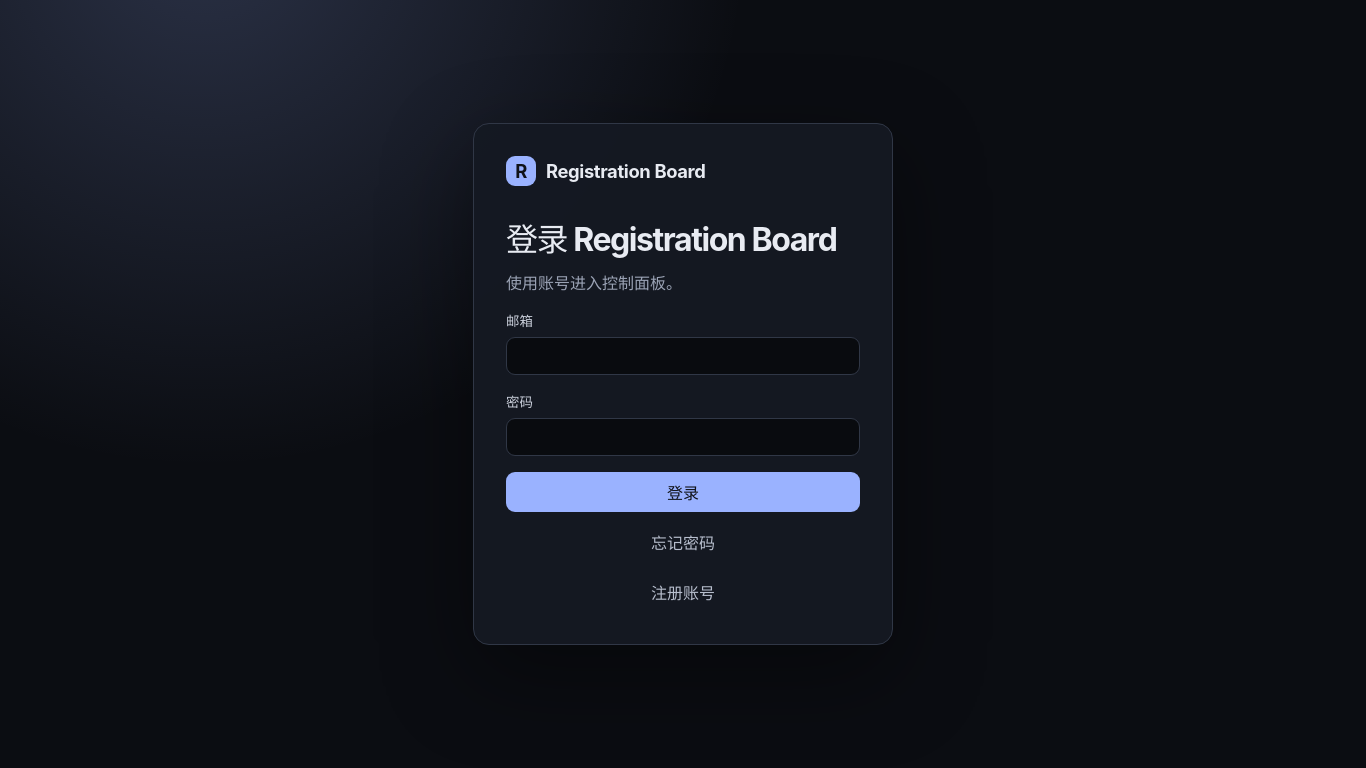
Test: App public identity bootstrap › registers with the legacy basic fields and enters the user portal
Click the button "注册账号" at (683, 592), box [506,572,860,612]
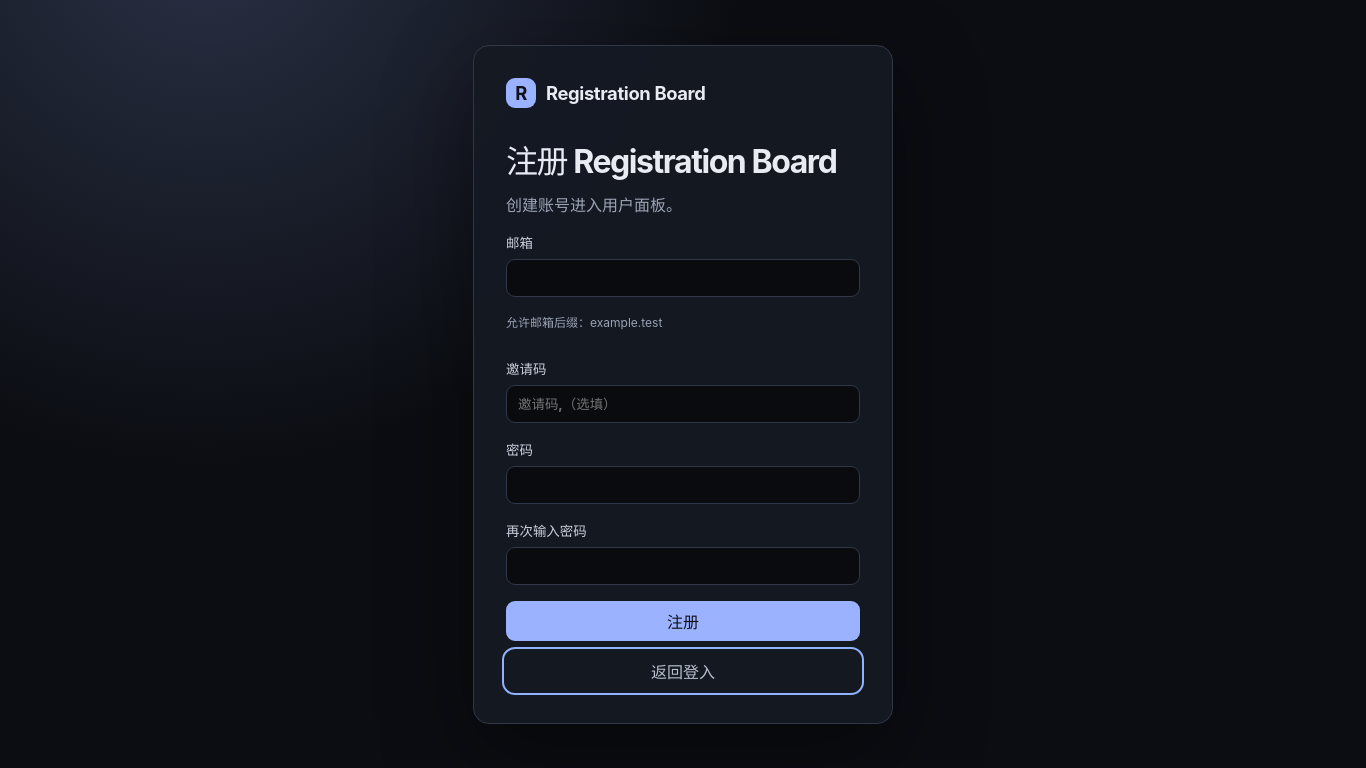
Result: the heading "注册 Registration Board" is shown at [506,136,860,182]
Result: the text "允许邮箱后缀：example.test" is shown at [506,314,662,330]
Type "NEW@EXAMPLE.TEST" into the field labelled "邮箱" at (683, 278), box [506,258,860,296]
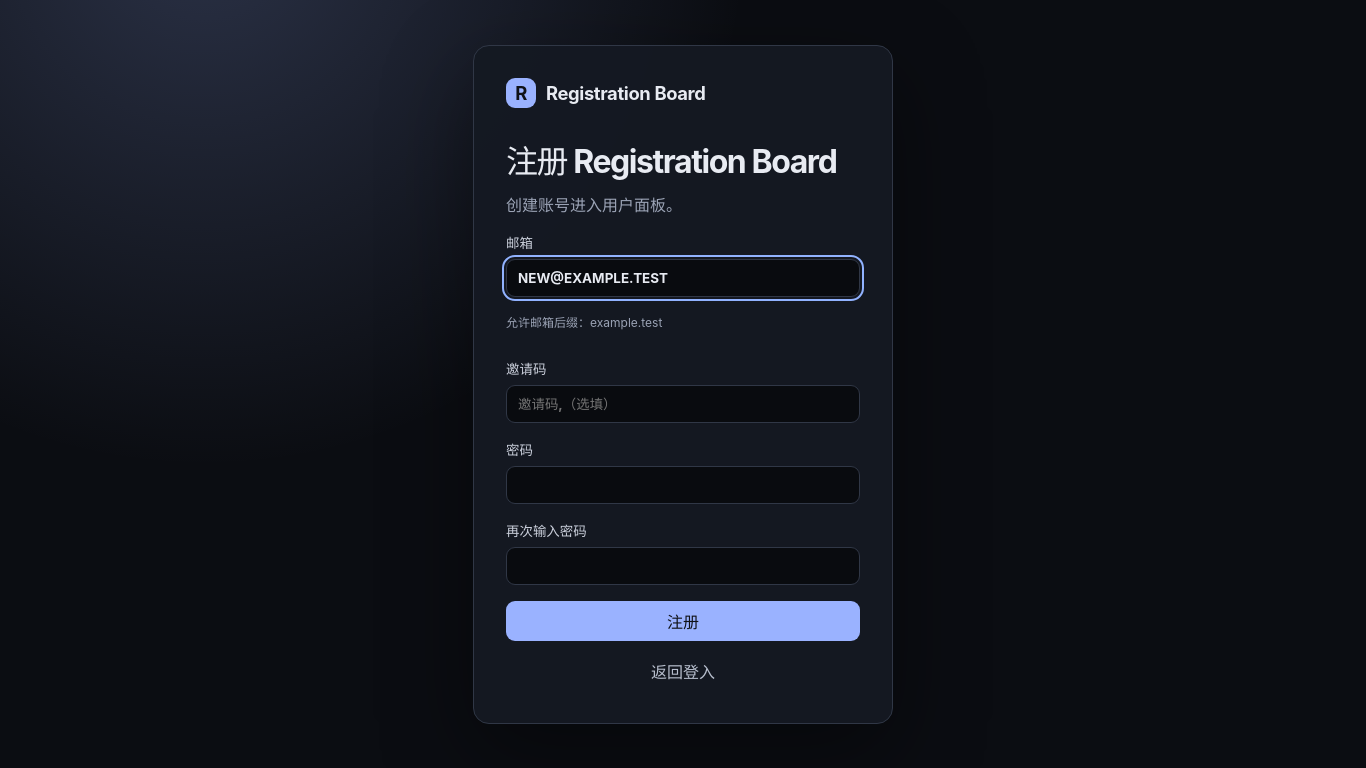
Type "password-123" into the password field labelled "密码" at (683, 484), box [506,466,860,504]
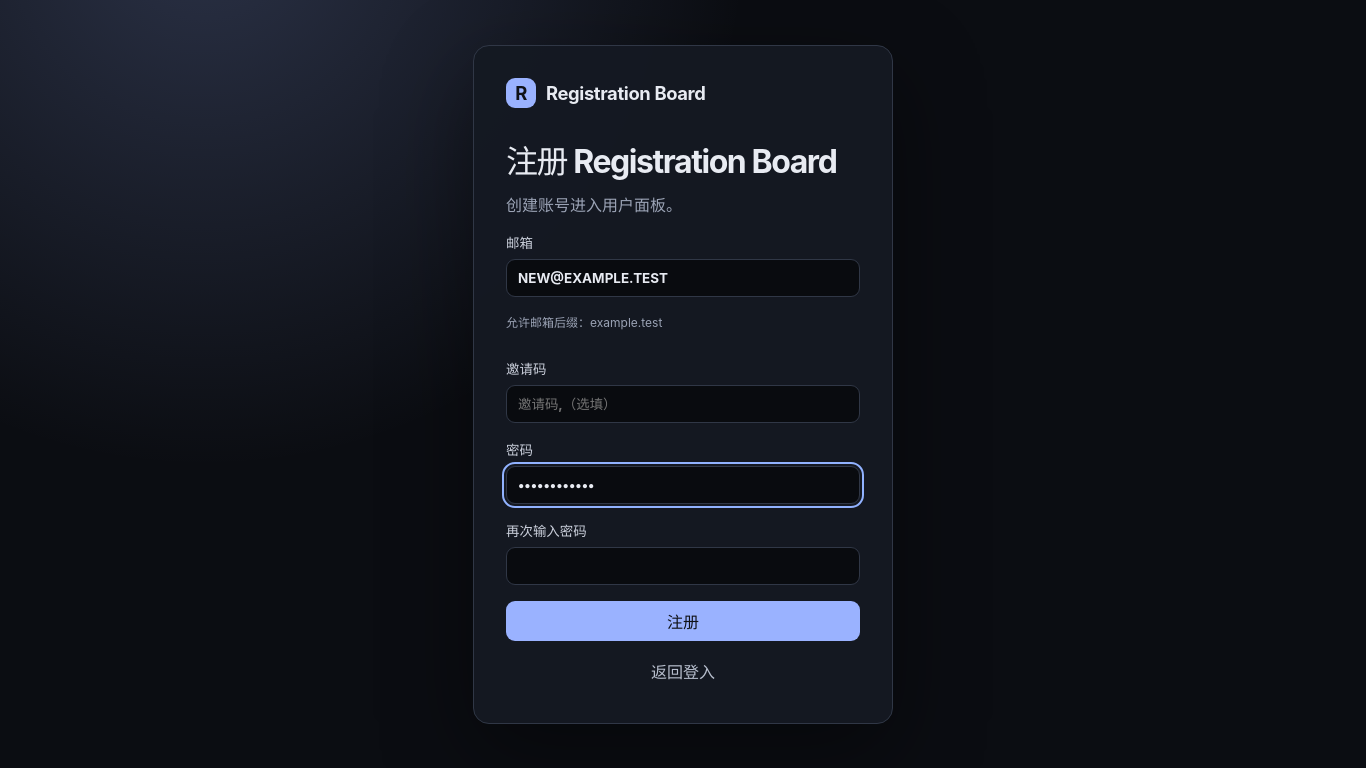
Type "password-123" into the password field labelled "再次输入密码" at (683, 566), box [506,546,860,584]
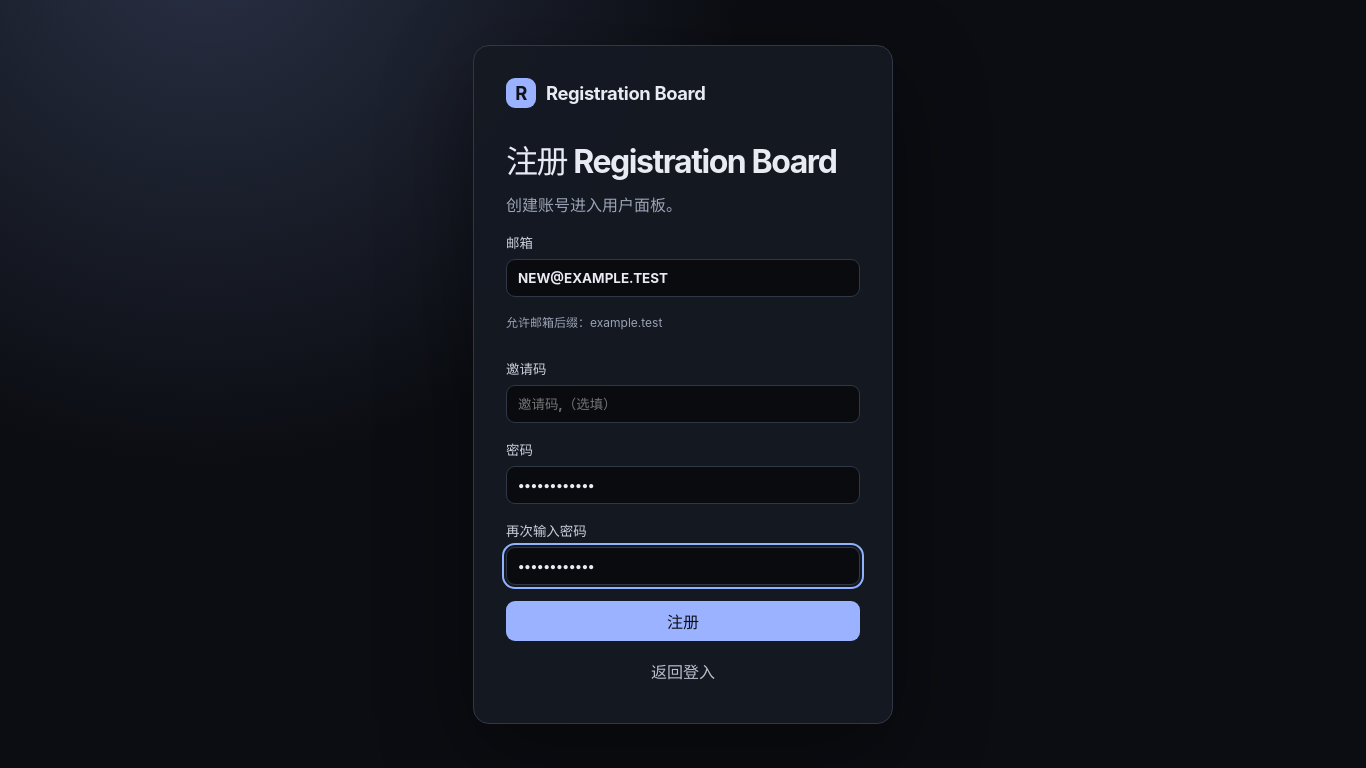
Click the button "注册" at (683, 620), box [506,600,860,640]
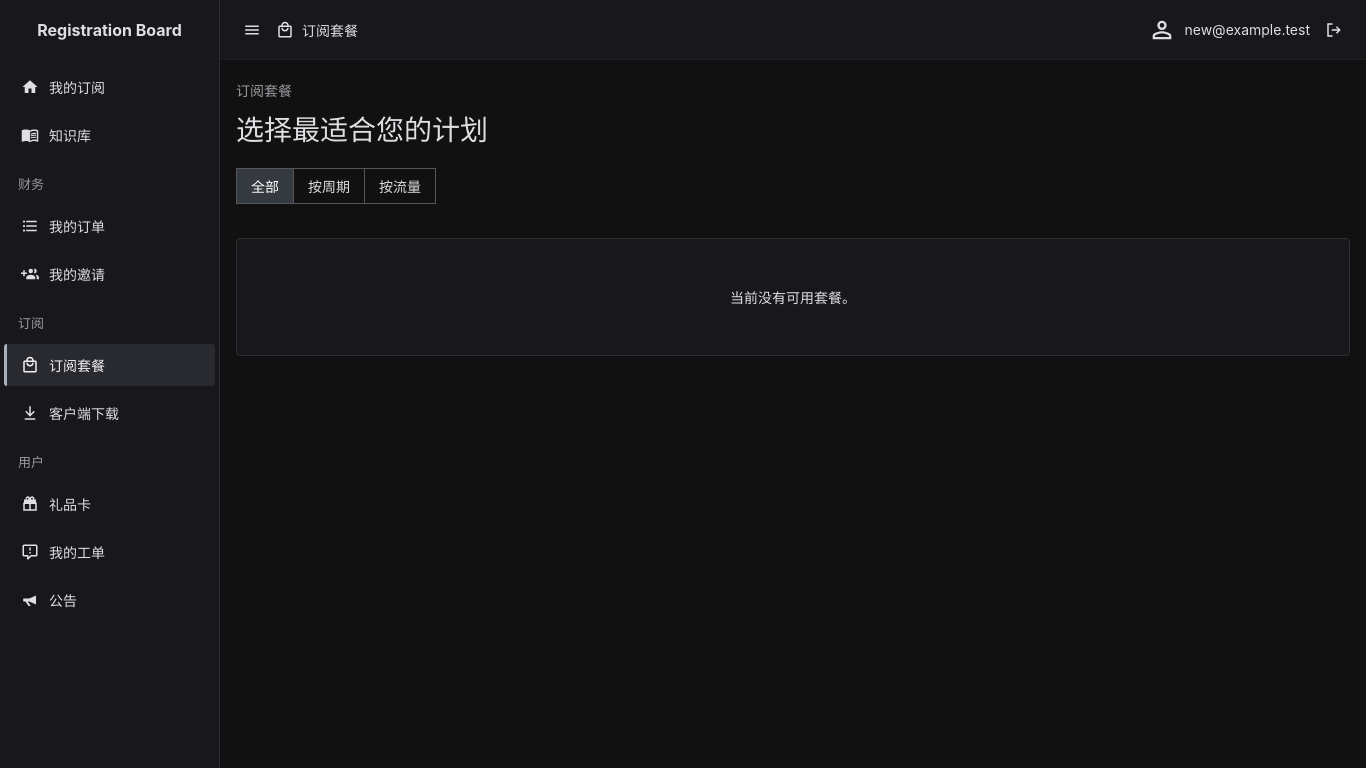
Result: the text "new@example.test" is shown at [1184,21,1310,38]
